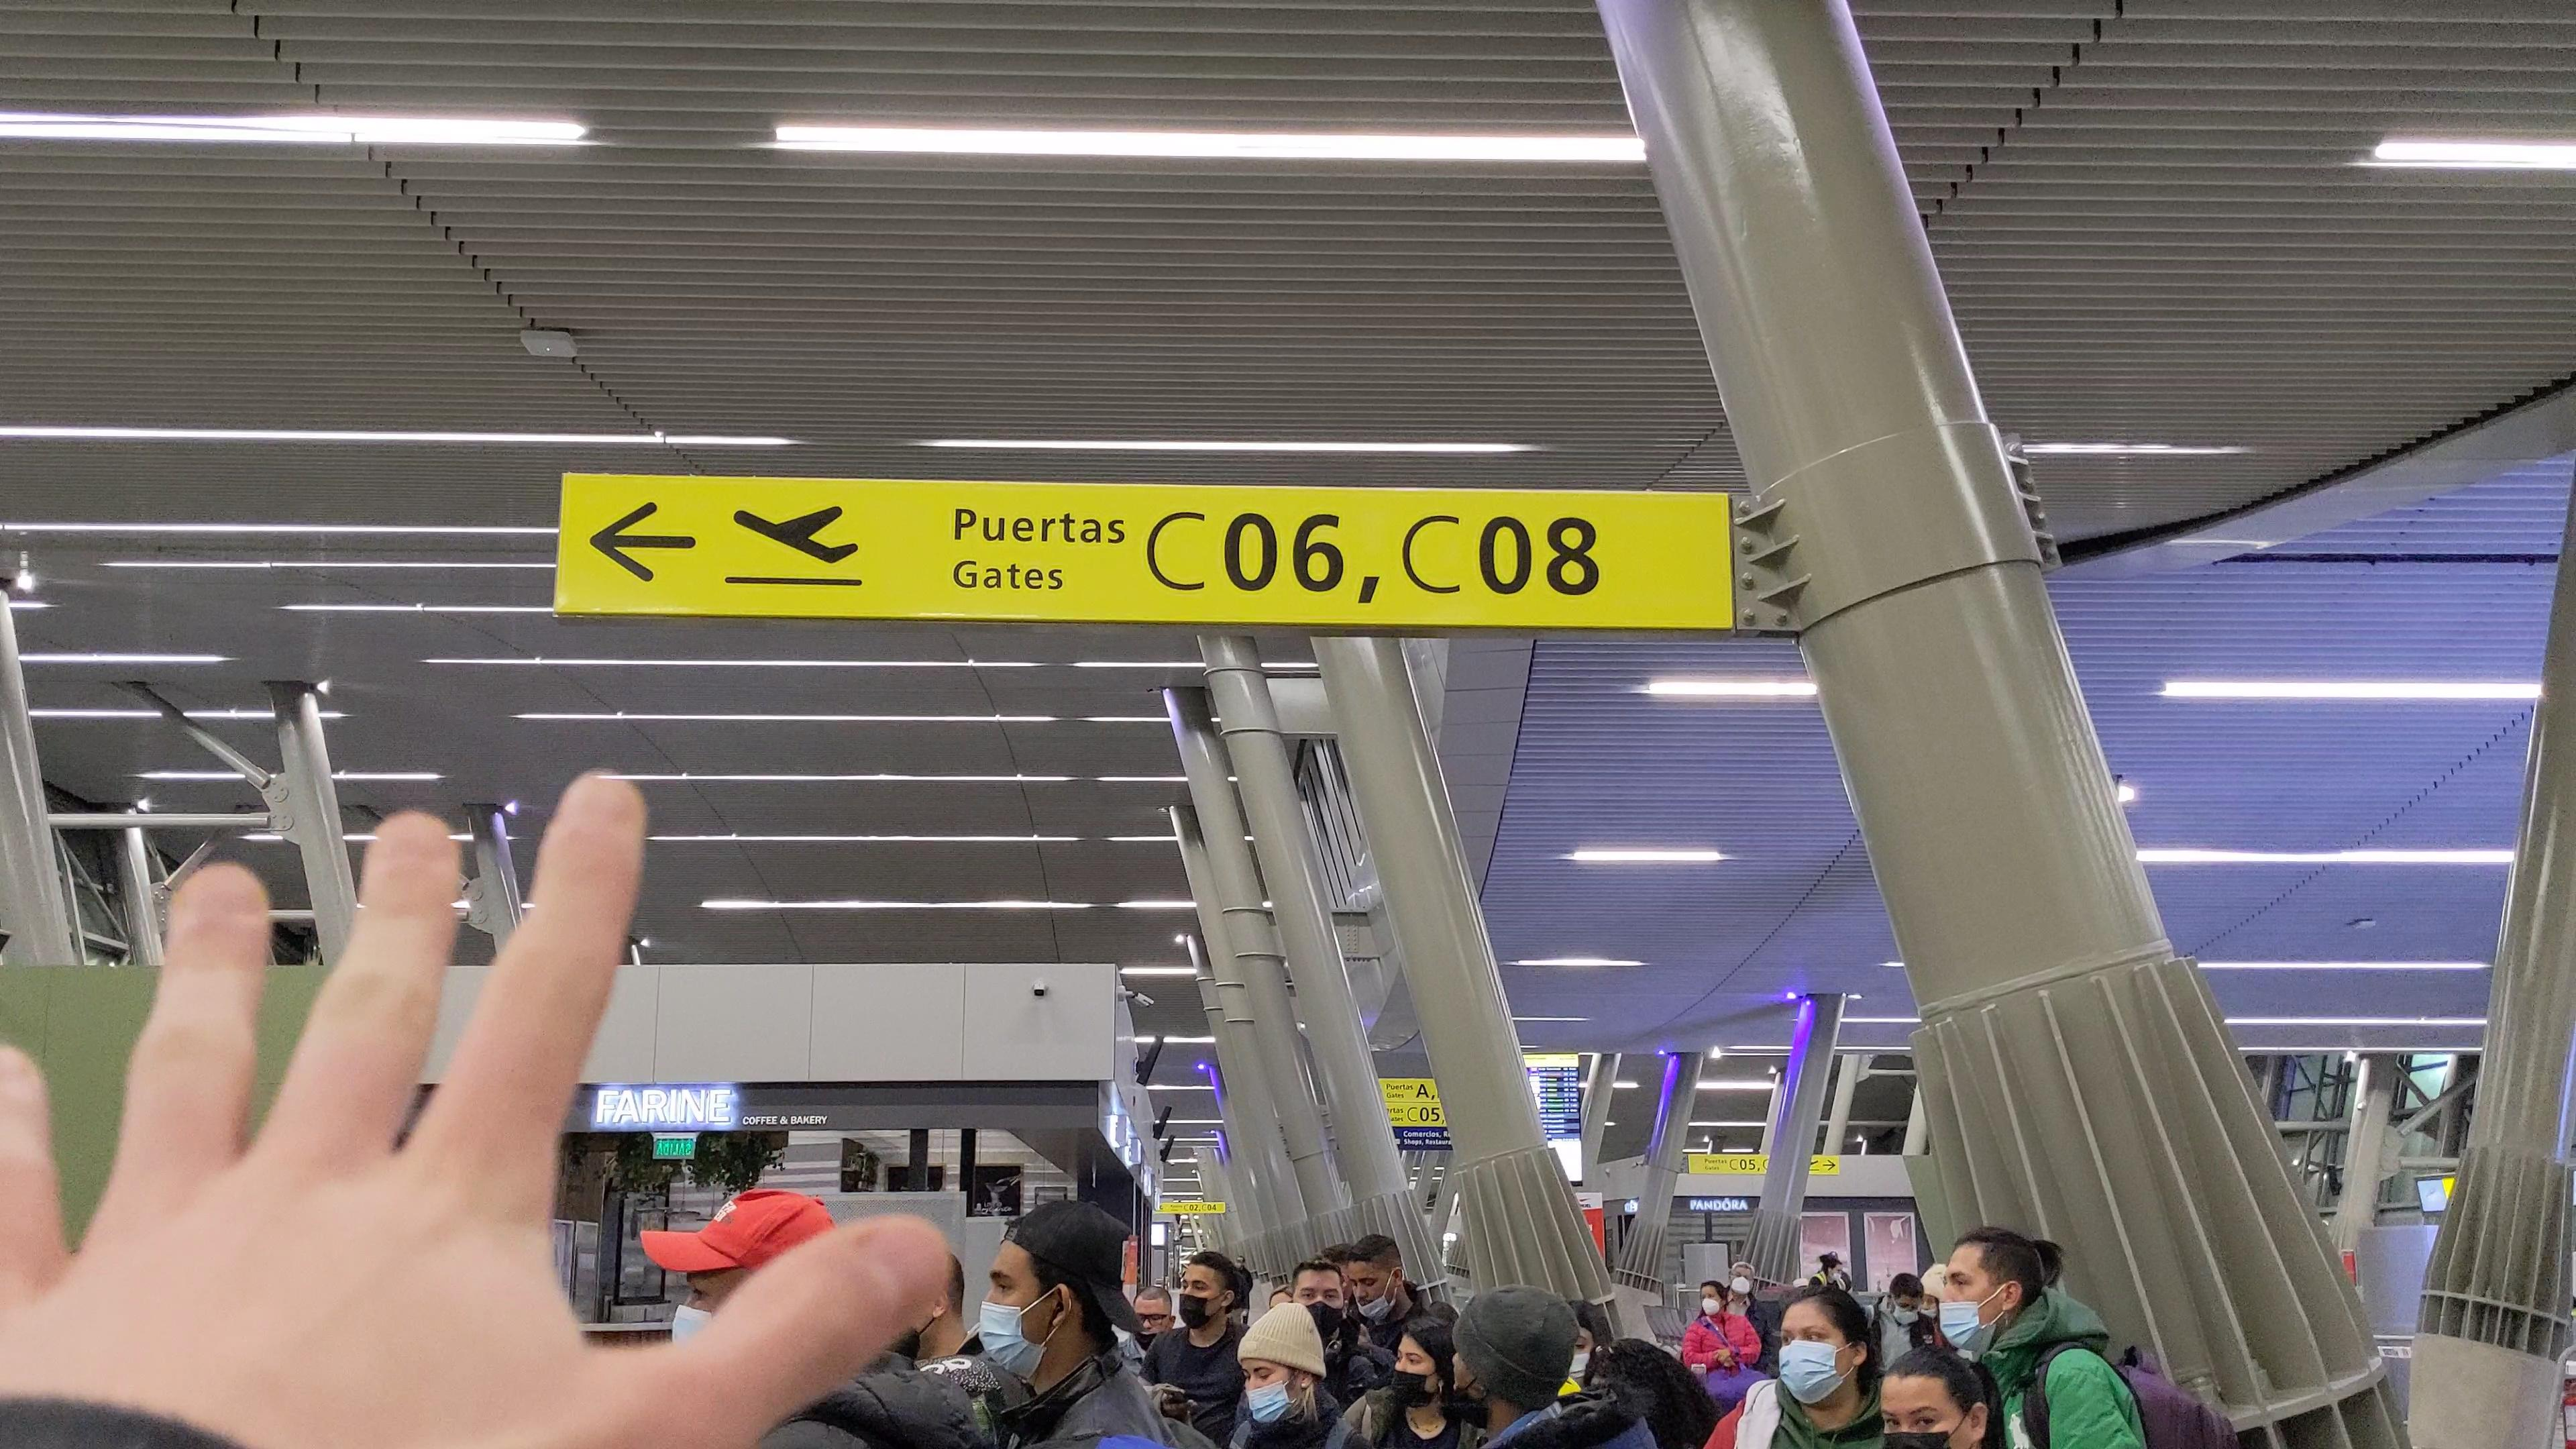airplane symbol: (727, 501, 860, 570)
thin left arrow: (582, 499, 702, 587)
